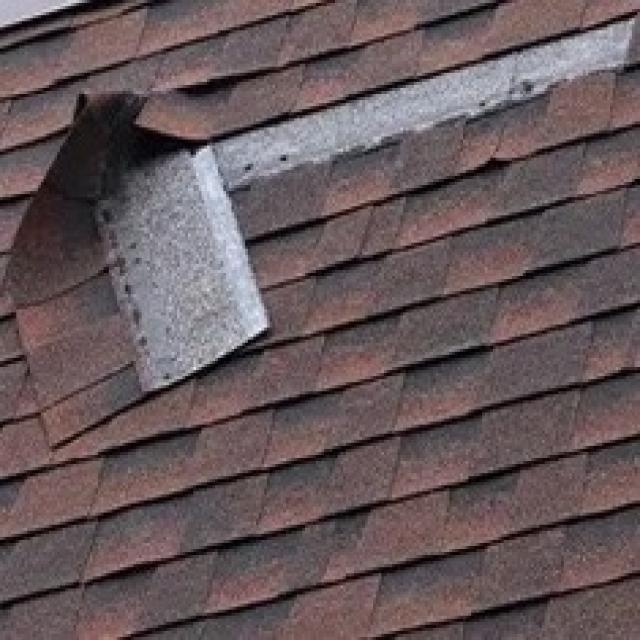damage: (0, 2, 637, 457)
